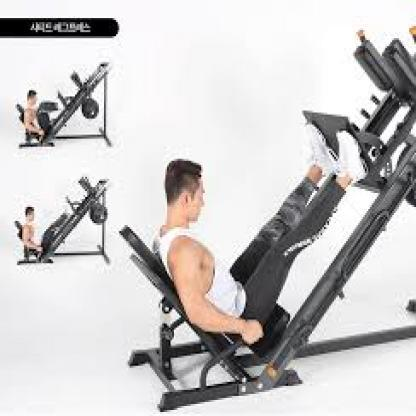leg press: (124, 8, 416, 411), (5, 45, 136, 153), (6, 166, 113, 278)
